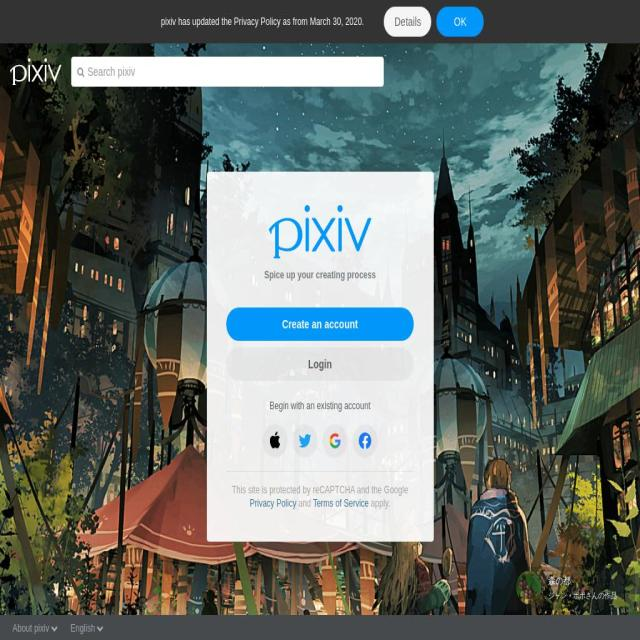button: (226, 307, 414, 341), (226, 347, 414, 381), (384, 6, 432, 36), (436, 6, 484, 36), (262, 423, 288, 458), (292, 423, 318, 458), (322, 423, 348, 458), (352, 423, 378, 458), (510, 595, 543, 607)
field: (71, 56, 384, 86)
image: (269, 204, 371, 258), (10, 58, 61, 85)
link: (312, 497, 368, 509), (548, 591, 618, 600), (250, 497, 296, 509), (548, 575, 571, 587)
text: (206, 266, 434, 282), (160, 14, 364, 29), (230, 398, 410, 412), (231, 483, 408, 496), (12, 615, 50, 640), (516, 571, 542, 604), (70, 615, 96, 640), (369, 497, 391, 509), (296, 497, 314, 509)
